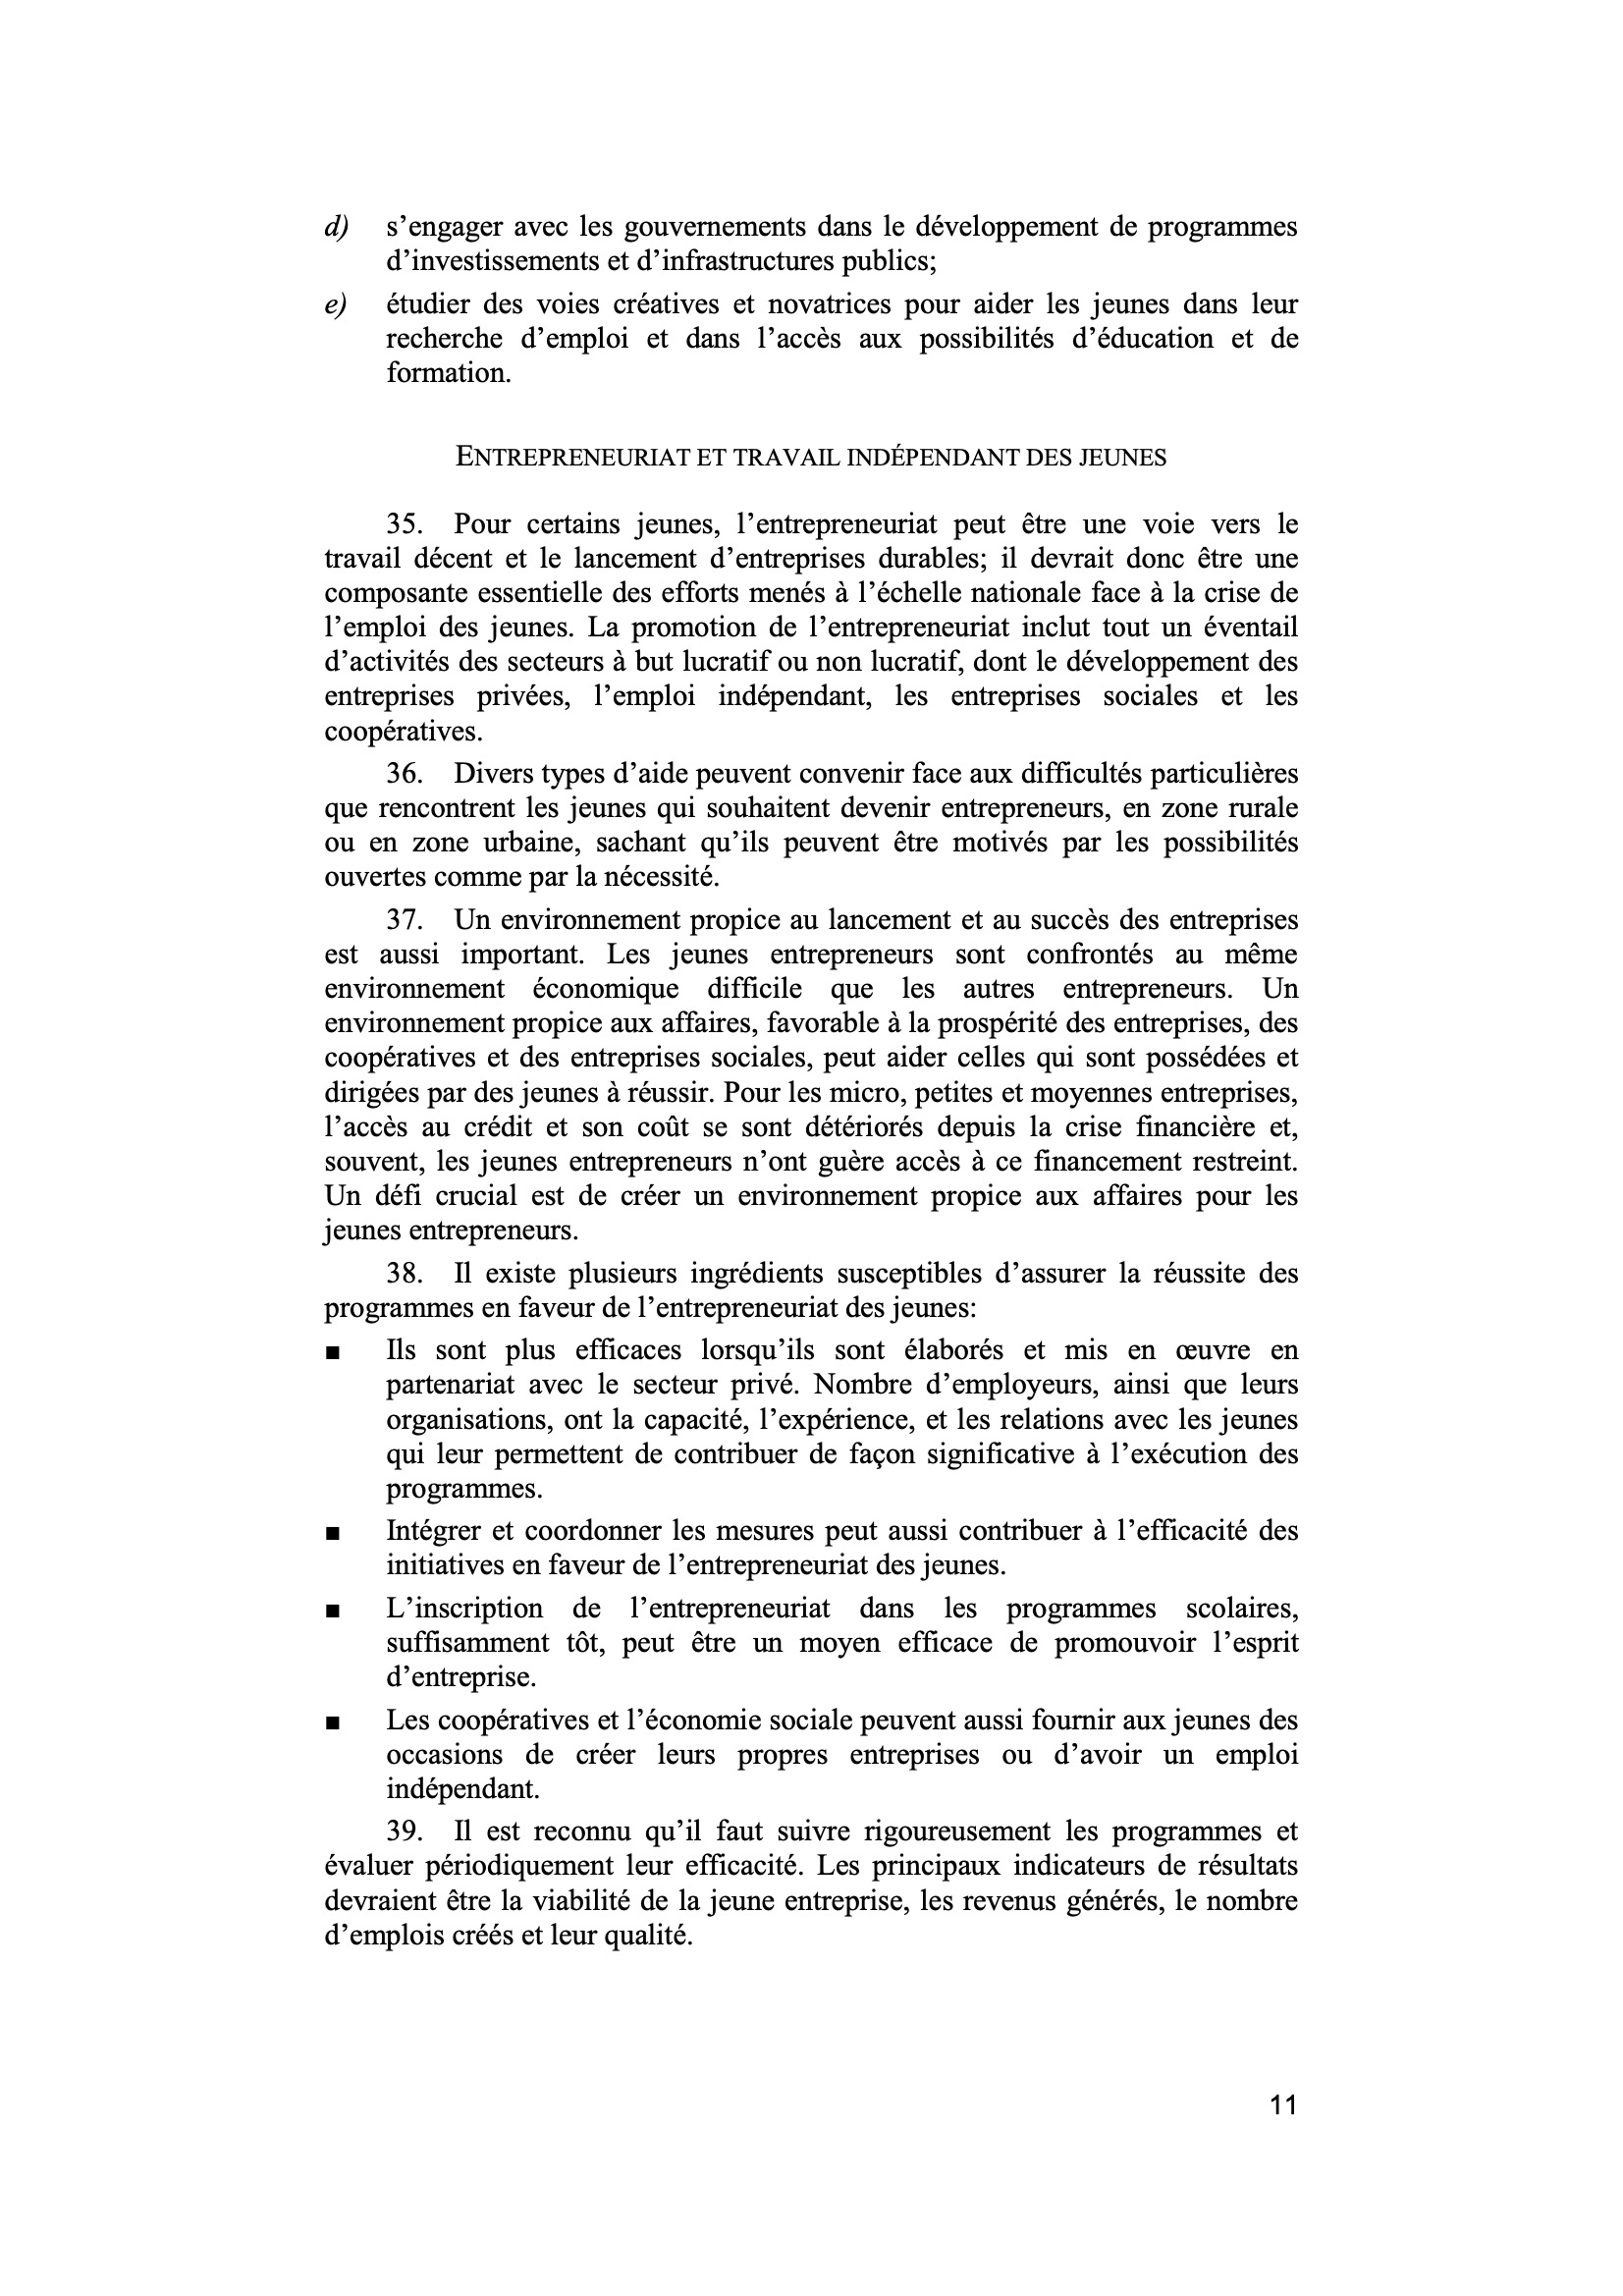MainZone-Head: (443, 433, 1180, 483)
MainZone-ListItem: (309, 896, 1310, 1247), (310, 500, 1308, 748), (298, 1331, 1309, 1506), (304, 1811, 1309, 1961), (305, 751, 1306, 897), (298, 1698, 1309, 1808), (298, 1588, 1309, 1696), (310, 283, 1317, 391), (305, 1250, 1312, 1329), (298, 1508, 1308, 1586), (311, 203, 1306, 277)
NumberingZone: (1257, 2083, 1308, 2134)
